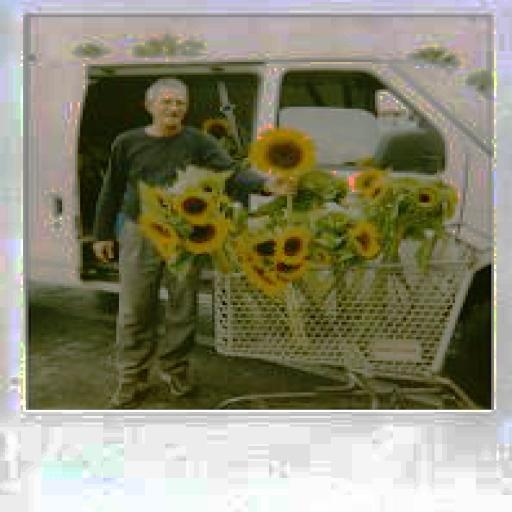sunflower: (251, 128, 315, 177), (233, 246, 282, 296), (186, 215, 228, 252), (140, 218, 181, 250), (238, 231, 279, 258), (173, 194, 215, 220), (346, 224, 378, 256), (277, 230, 305, 262), (354, 164, 380, 190)
